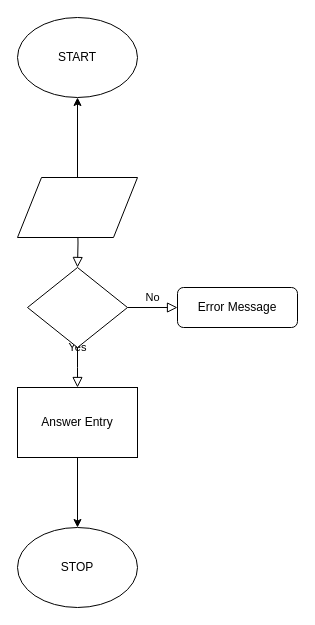
Image size: 315x625. Some labels were removed from this diagram. The shapes that lost their labels are listed below. From the top down, each one's box as (x1, y1, x2, y2) in pixels, then its label:
(16, 176, 138, 238): Input Email
(26, 266, 128, 348): Valid Email?
